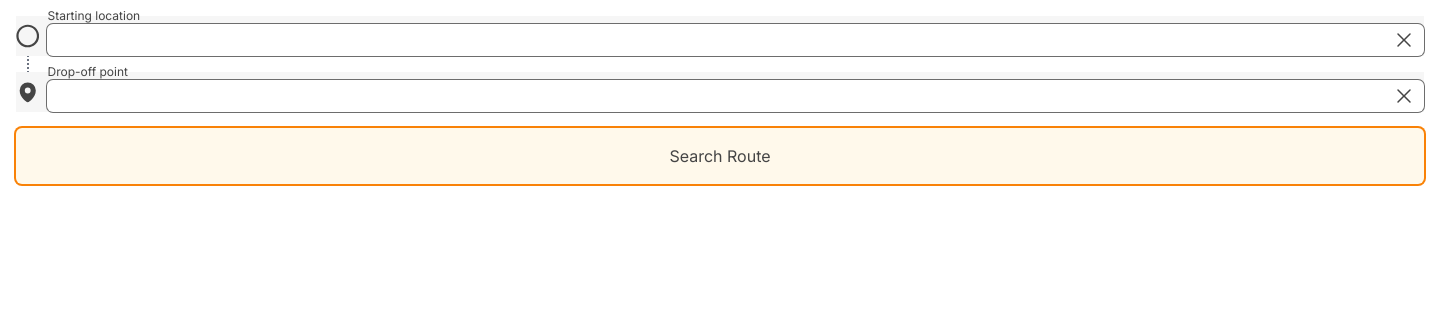
RouteCheckSide Success Flow
Type "Hong" into the dropdown labelled "Starting location".
click(736, 40); type("Hong")  # box [48, 24, 1424, 56]
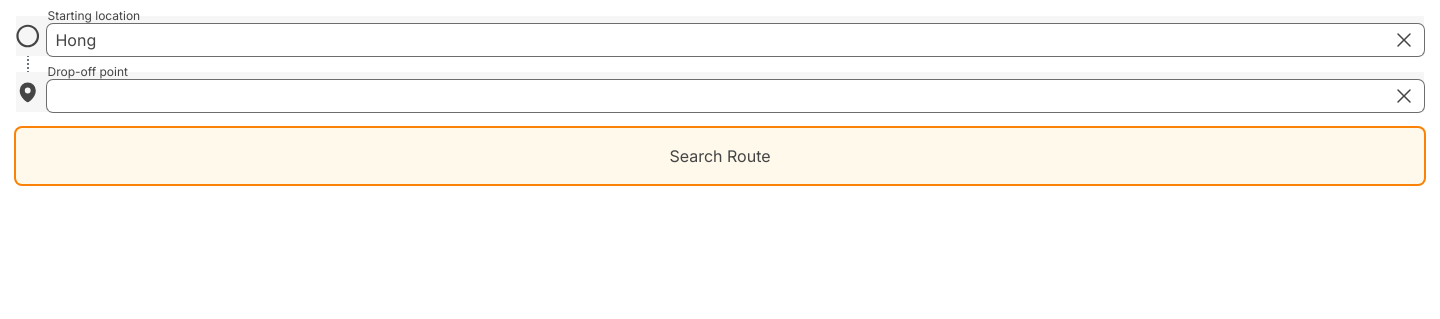
Type "Kong" into the dropdown labelled "Drop-off point".
click(736, 96); type("Kong")  # box [48, 80, 1424, 112]
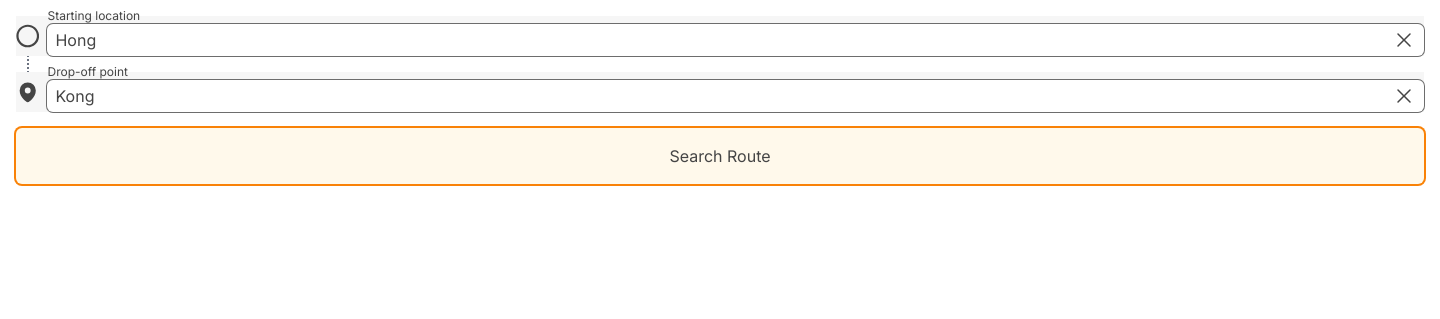
Click the button "Search Route".
click(720, 156)  # box [16, 128, 1424, 184]
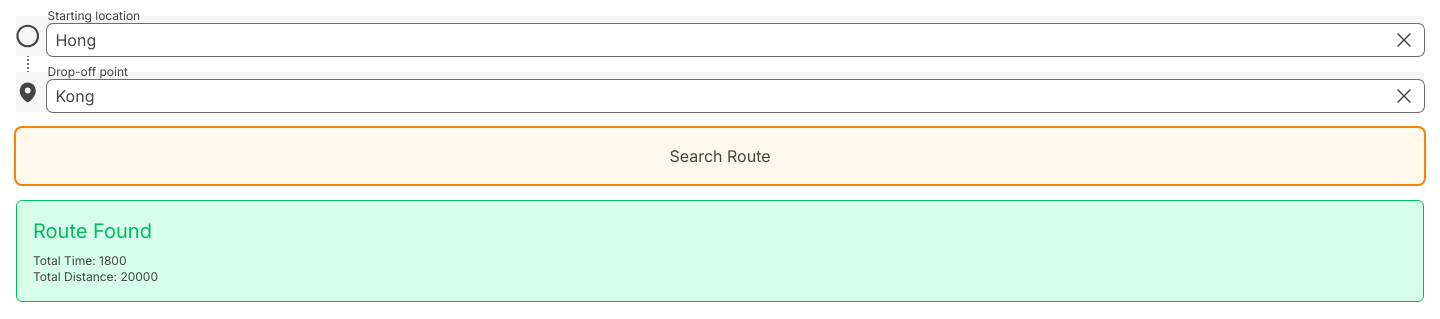
Now the text "Route Found" is shown, box [33, 219, 152, 243]
Now the text titled "Total Distance" is shown, box [33, 269, 158, 284]
Now the text titled "Total Time" is shown, box [33, 253, 126, 268]
